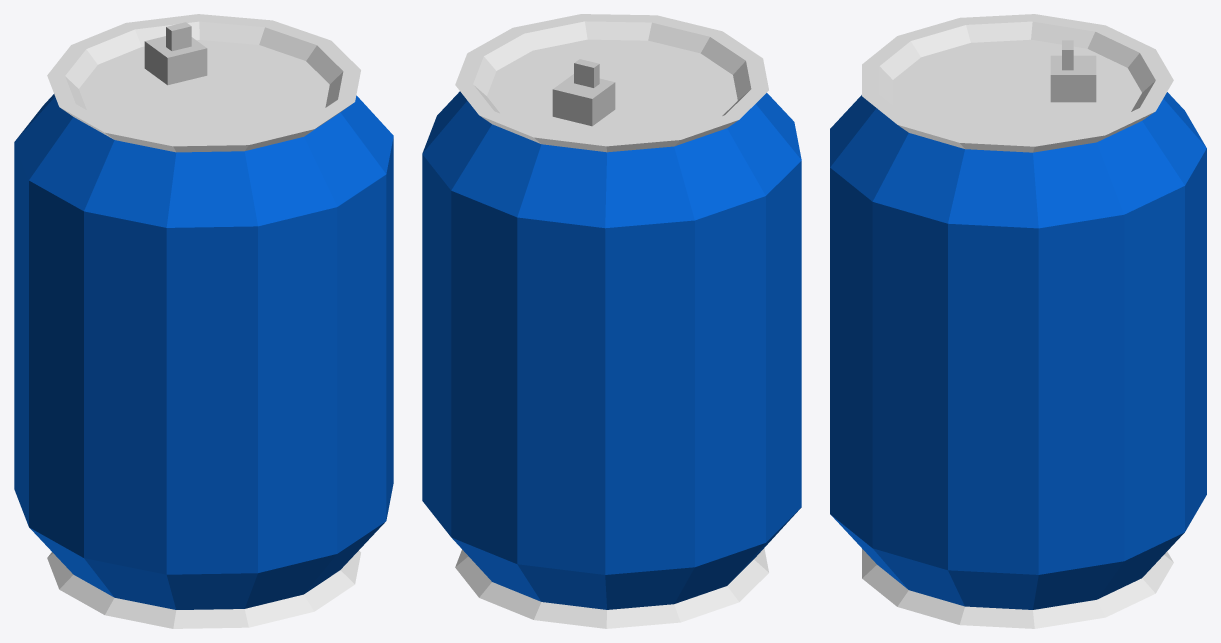
File: can_blue.glb
3 views of the same model, side by side, from view 1: azimuth 30°, elevation 25°; view 2: azimuth 150°, elevation 25°; view 3: azimuth 270°, elevation 25° (orthographic).
Parts seen in each view (by area): view 1: Cylinder.001_Material.001_0, Cylinder.001_Material.002_0, Cylinder.001_Material.003_0; view 2: Cylinder.001_Material.001_0, Cylinder.001_Material.002_0, Cylinder.001_Material.003_0; view 3: Cylinder.001_Material.001_0, Cylinder.001_Material.002_0, Cylinder.001_Material.003_0.
Part boxes in pixels (x1,y1,x2,y2): Cylinder.001_Material.001_0: (14, 94, 393, 609); Cylinder.001_Material.002_0: (47, 14, 360, 628); Cylinder.001_Material.003_0: (144, 22, 207, 85); Cylinder.001_Material.001_0: (422, 91, 801, 609); Cylinder.001_Material.002_0: (455, 14, 768, 628); Cylinder.001_Material.003_0: (552, 59, 615, 126); Cylinder.001_Material.001_0: (830, 92, 1206, 609); Cylinder.001_Material.002_0: (862, 14, 1173, 628); Cylinder.001_Material.003_0: (1050, 40, 1096, 102).
Size of the model in its own units: 199 by 299 by 197.
